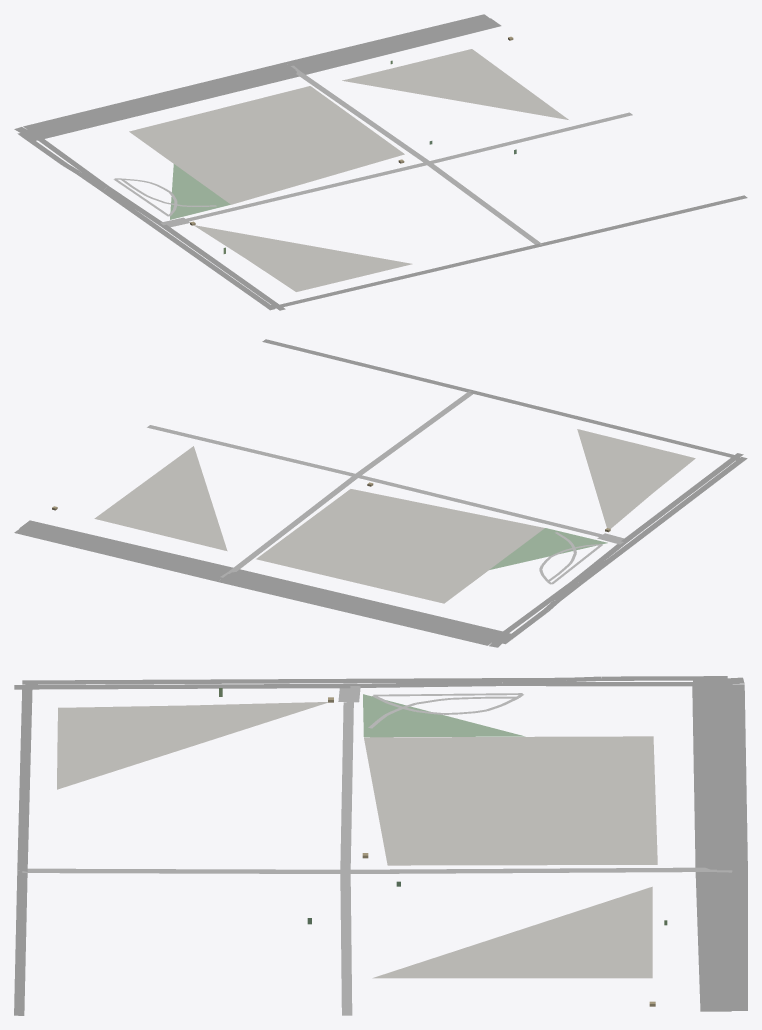
3 renders of one model, top to bottom at view 1: azimuth 30°, elevation 25°; view 2: azimuth 150°, elevation 25°; view 3: azimuth 270°, elevation 25°, orthographic. The views are drawn at different scales.
Size of the model in its own units: 541 by 9.17 by 495.
